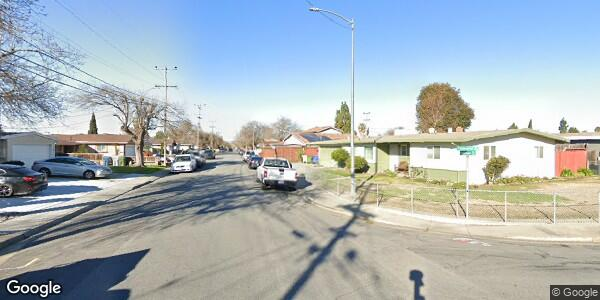Steel_Pole: (306, 7, 356, 193)
Wood_Pole: (151, 63, 179, 166)
